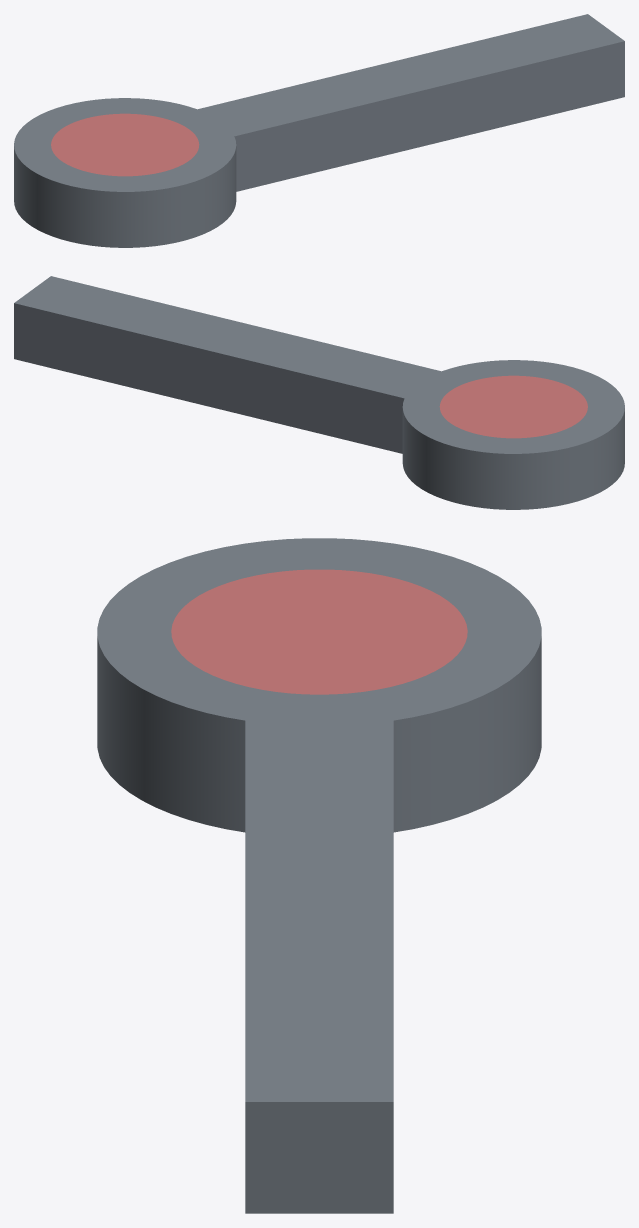
Rendered from step_03.glb.
The picture shows the model from 3 angles, top to bottom: view 1: azimuth 30°, elevation 25°; view 2: azimuth 150°, elevation 25°; view 3: azimuth 270°, elevation 25°; orthographic projection. The views are drawn at different scales.
Parts seen in each view (by area): view 1: part__anchor collar, removed__anchor collar; view 2: part__anchor collar, removed__anchor collar; view 3: part__anchor collar, removed__anchor collar.
Part boxes in pixels (bbox=[...]): part__anchor collar: bbox=[14, 14, 624, 247]; removed__anchor collar: bbox=[51, 113, 199, 176]; part__anchor collar: bbox=[14, 276, 624, 509]; removed__anchor collar: bbox=[439, 375, 587, 438]; part__anchor collar: bbox=[97, 538, 541, 1213]; removed__anchor collar: bbox=[171, 569, 467, 694].
Bounding box in the file's own units: 1080 × 100 × 360.
